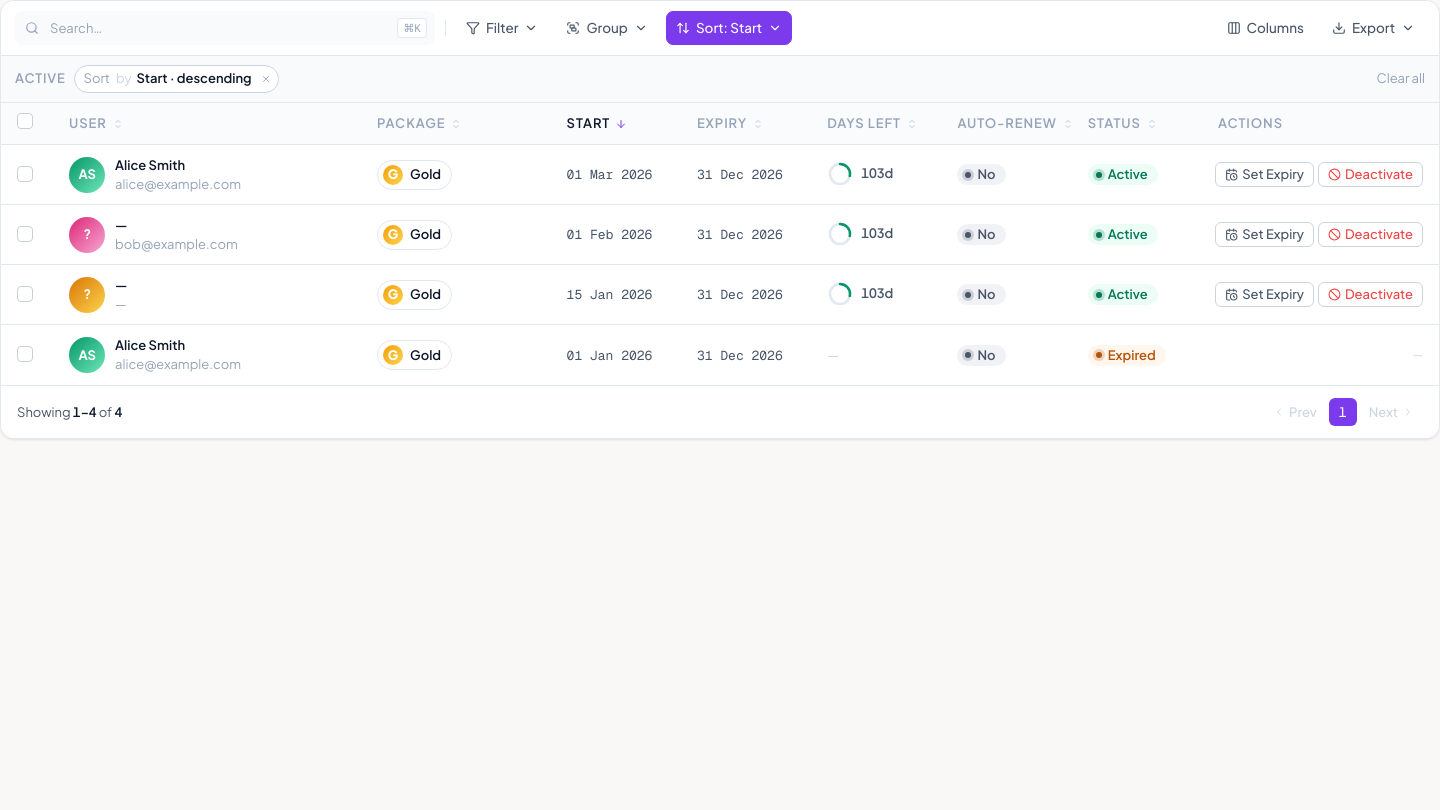
Scenario: PremiumDealerSubscriptionsTable group by user › renders one group header per user with correct counts
Click the button "Group" at [607, 28], box [556,11,658,45]
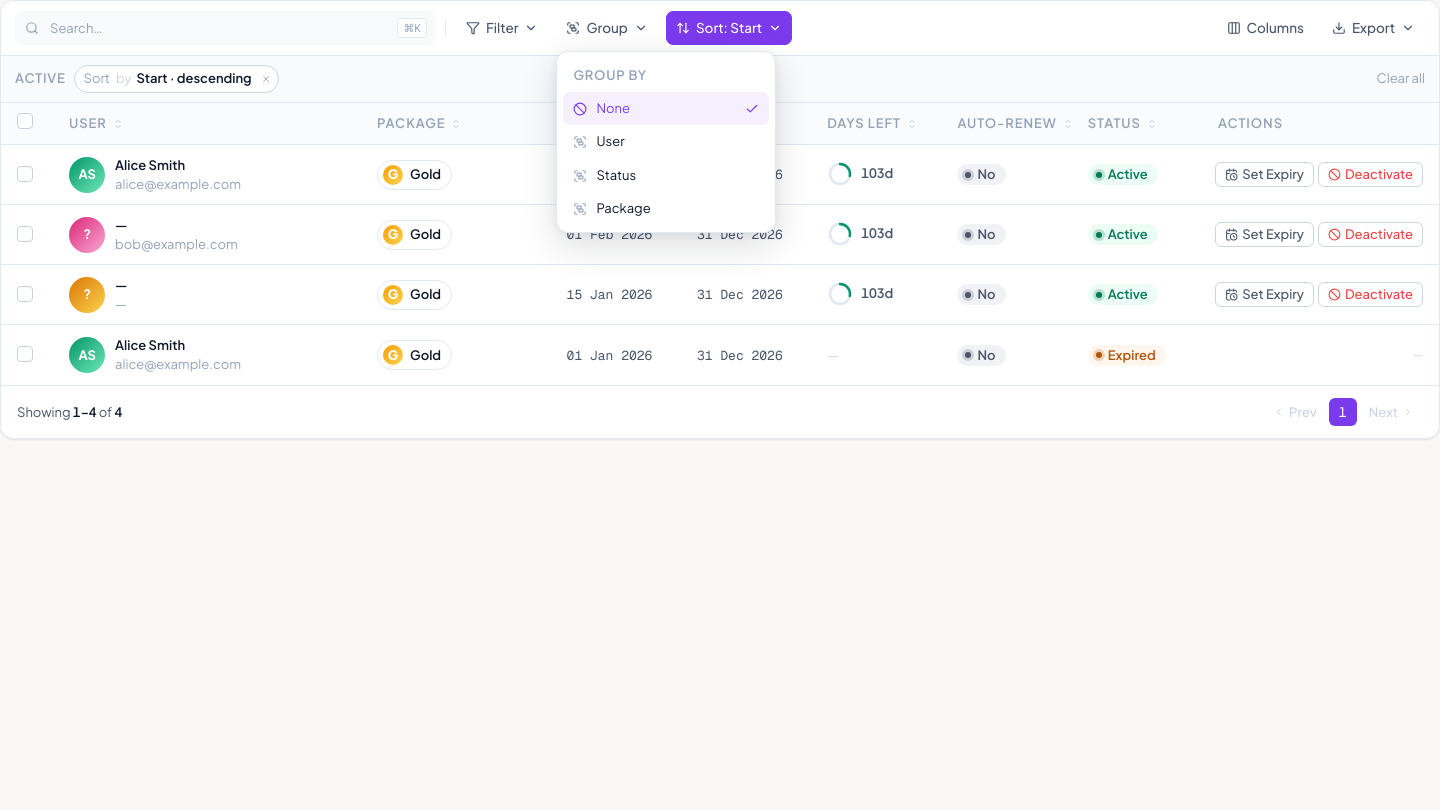
Click the button "User" at [666, 142], box [563,125,769,159]
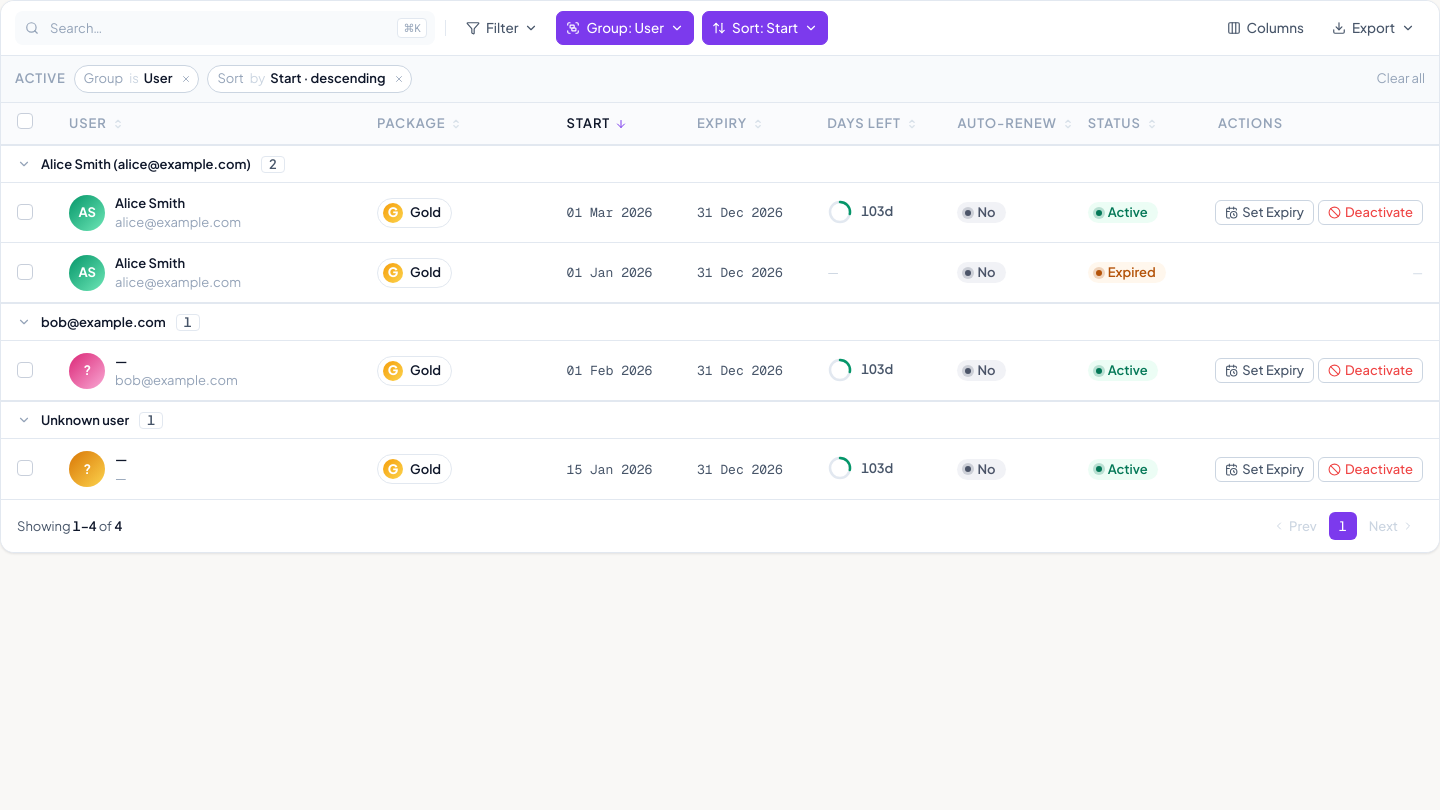
Now the text with class "lv-grouprow-count" reads "2", box [269,156,277,172]
